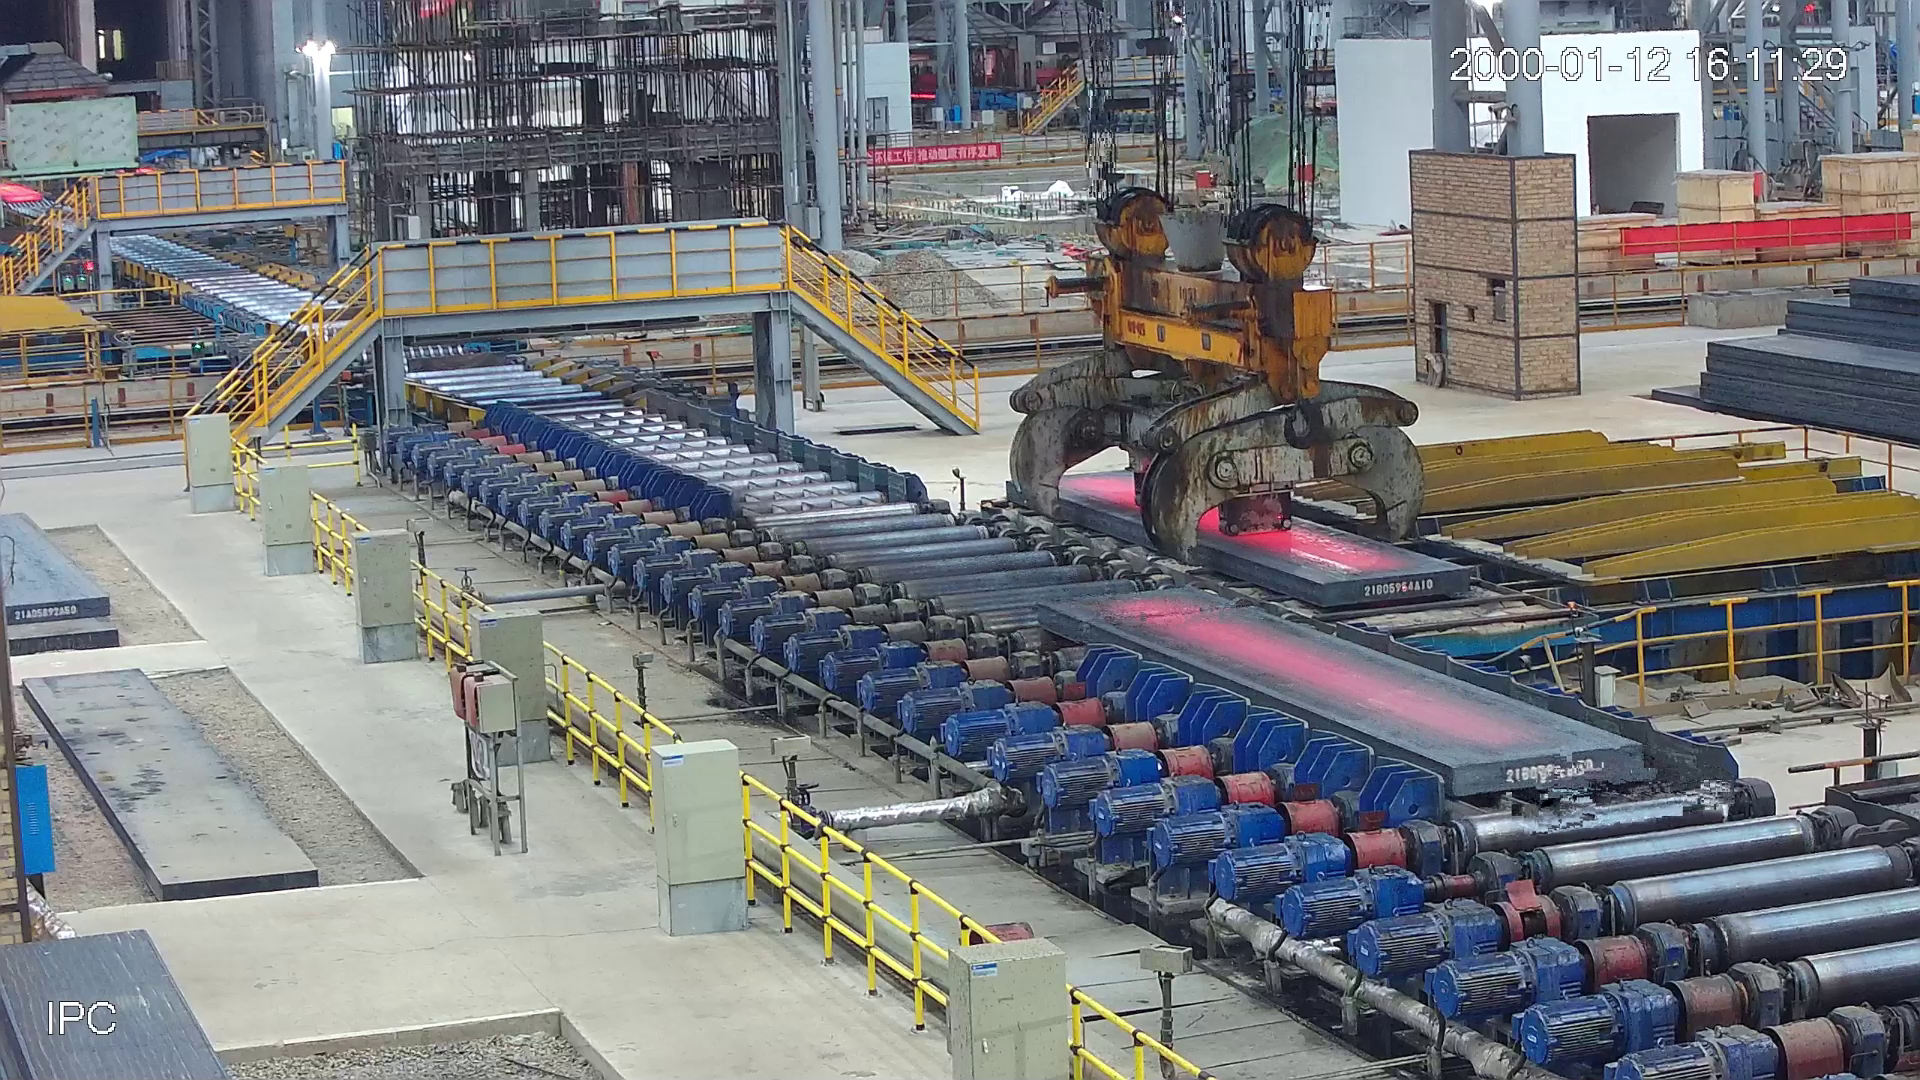craneandslab: (1004, 182, 1472, 611)
slab: (1034, 596, 1646, 800)
